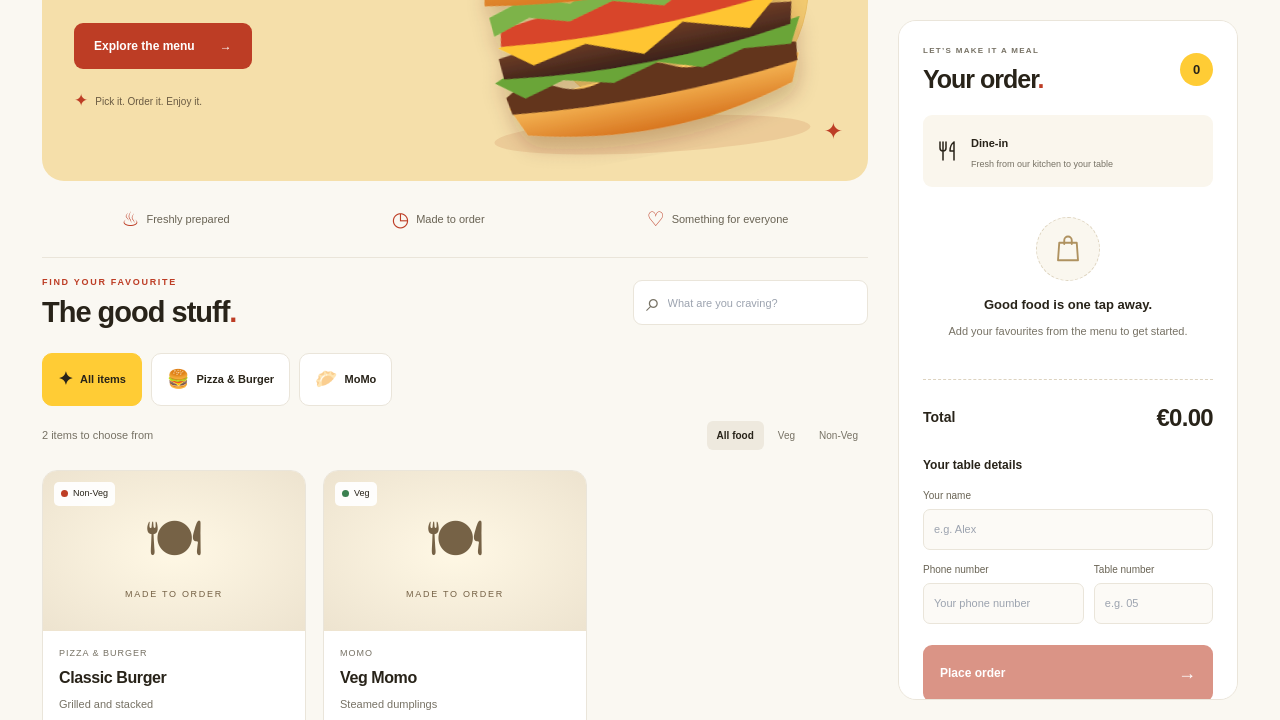
Test case: filters live dishes by search, category and diet
The width and height of the screenshot is (1280, 720).
(page scrolled)
Expected: the button "Place order →" is disabled, [923, 645, 1213, 700]
Type "dumplings" into the search field. click: coordinates (761, 303)
box: [668, 281, 855, 324]
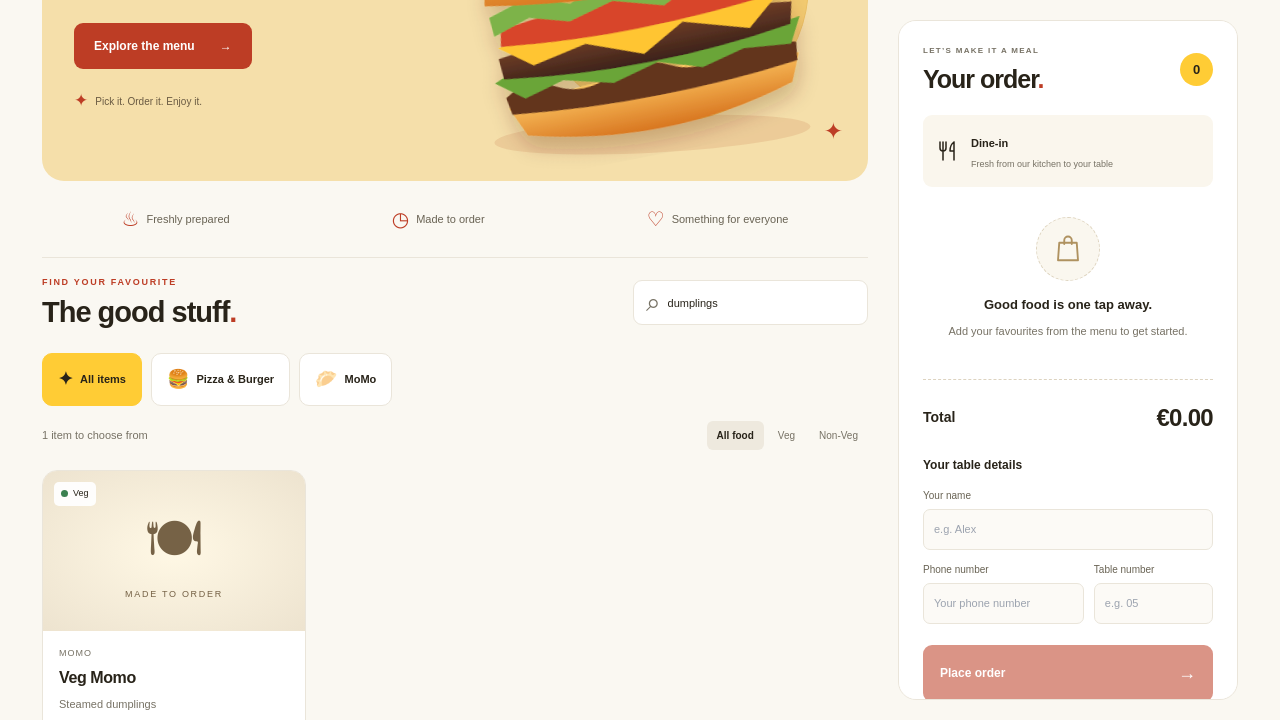
Clear the search field. click: coordinates (761, 303)
box: [668, 281, 855, 324]
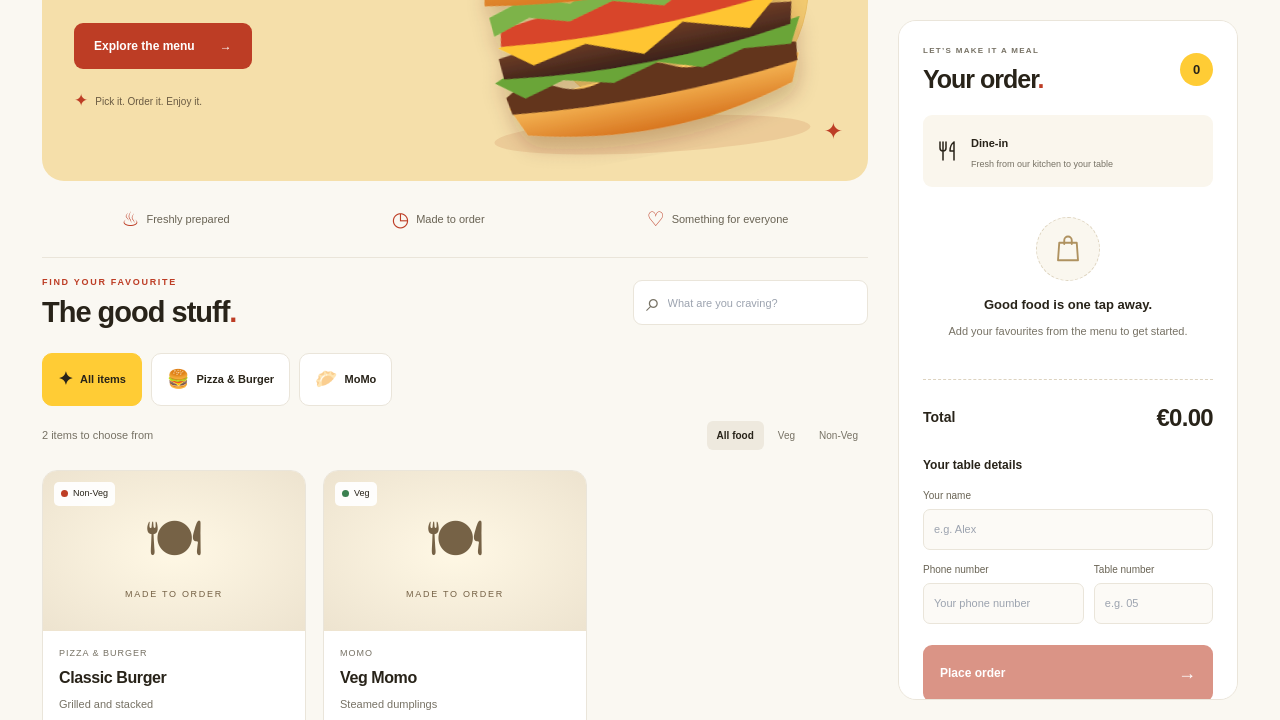
Click the button "Veg". click: coordinates (786, 436)
box: [768, 421, 805, 450]
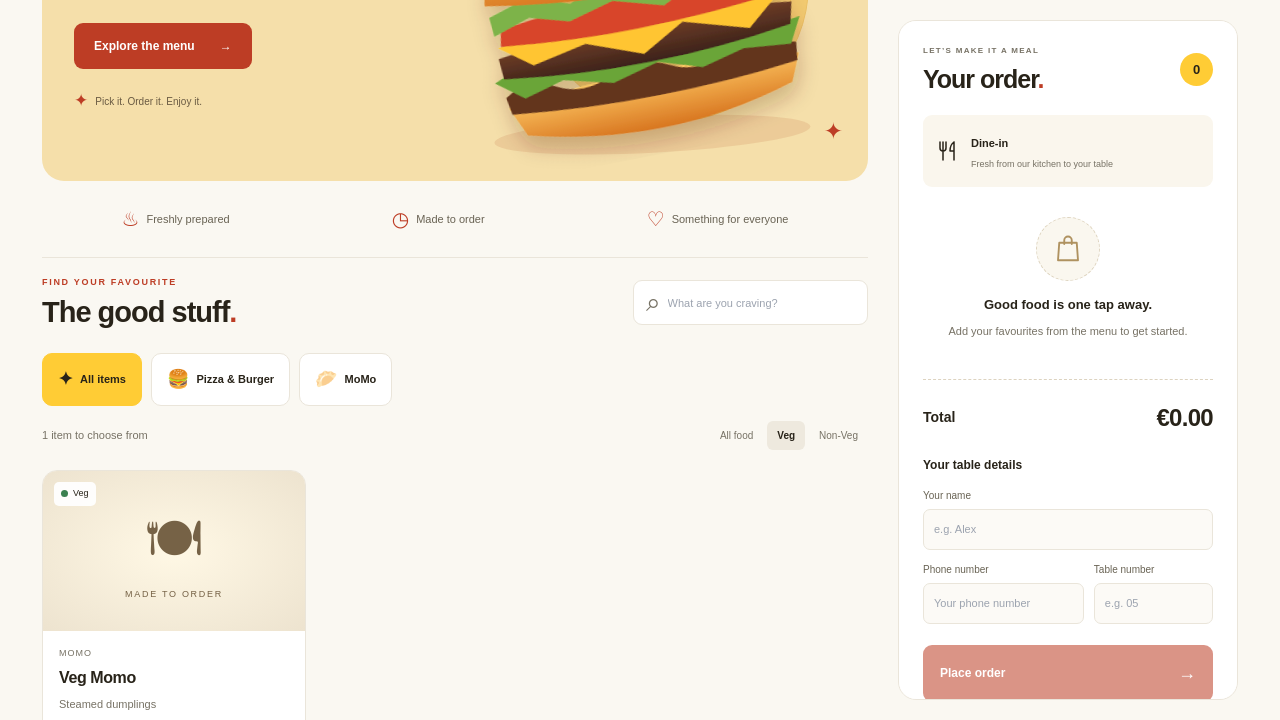
Click the button "🍔 Pizza & Burger". click: coordinates (221, 380)
box: [151, 353, 290, 406]
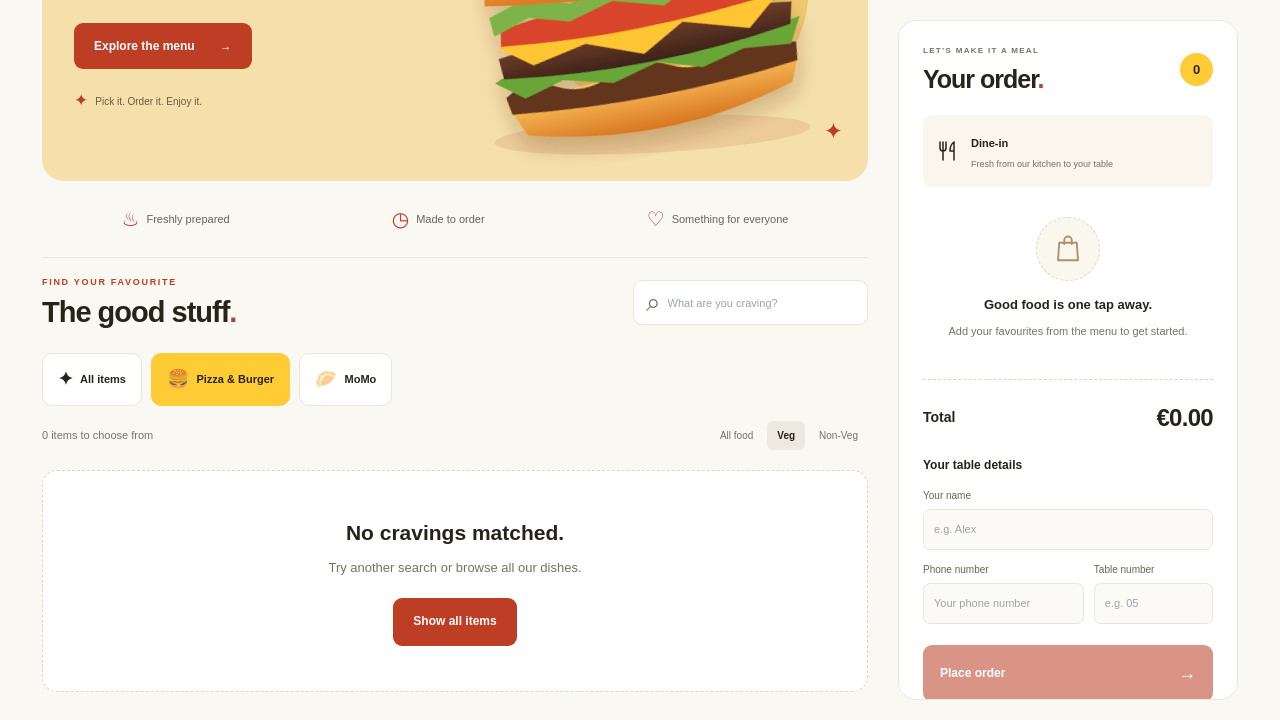
Result: the heading "No cravings matched." is shown at [346, 521, 564, 544]
Click the button "Show all items". click: coordinates (455, 622)
box: [393, 598, 517, 646]
(page scrolled)
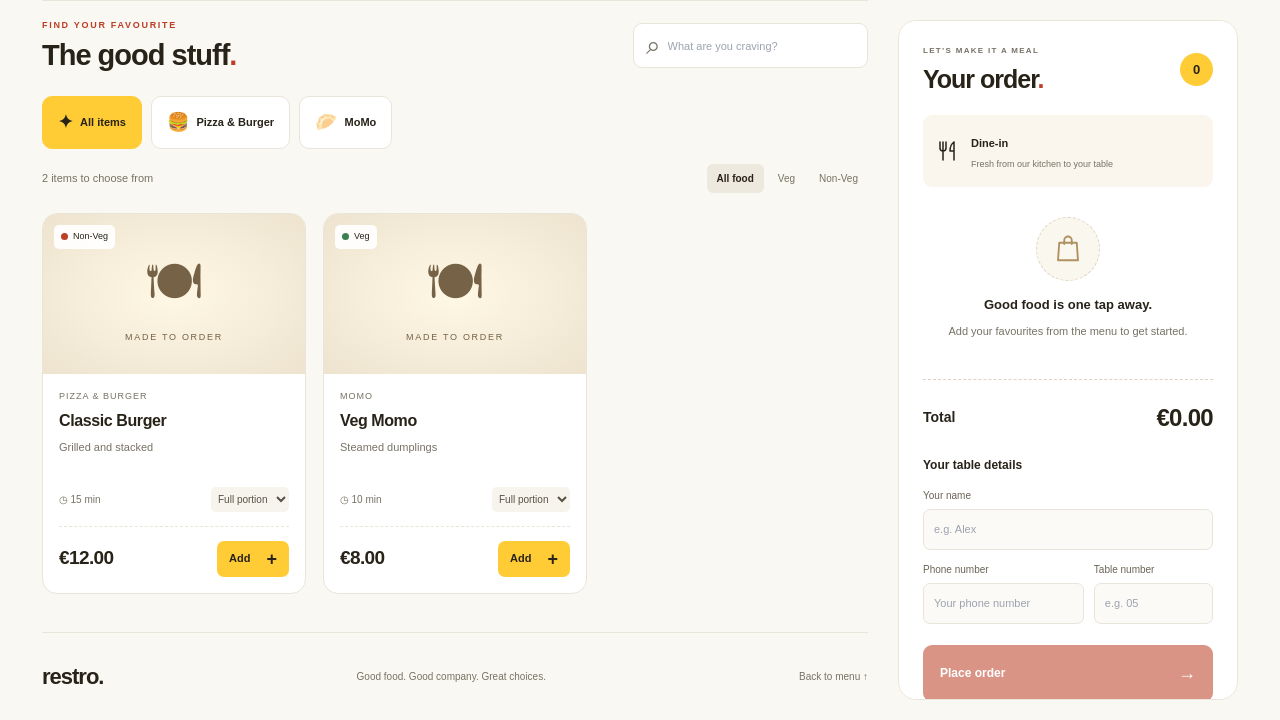
Result: the button with aria-label "Add Classic Burger, full portion" is shown at [217, 541, 289, 577]
